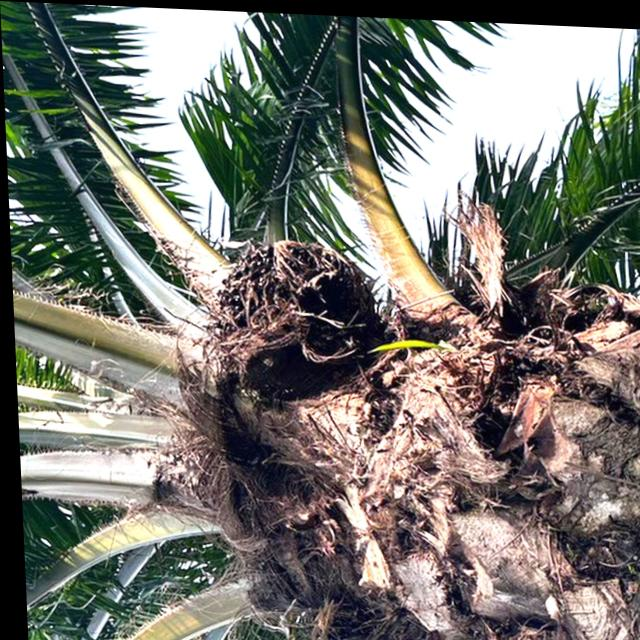unripe: (193, 222, 379, 409)
